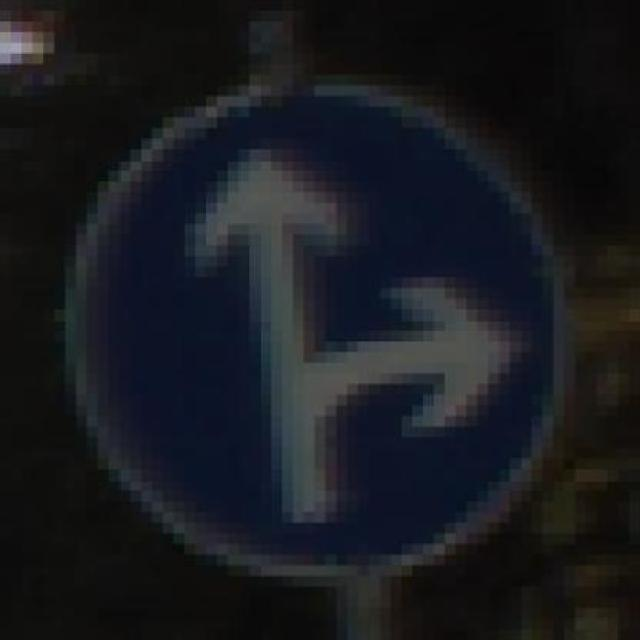Go Straight or Turn Right: (54, 64, 575, 587)
